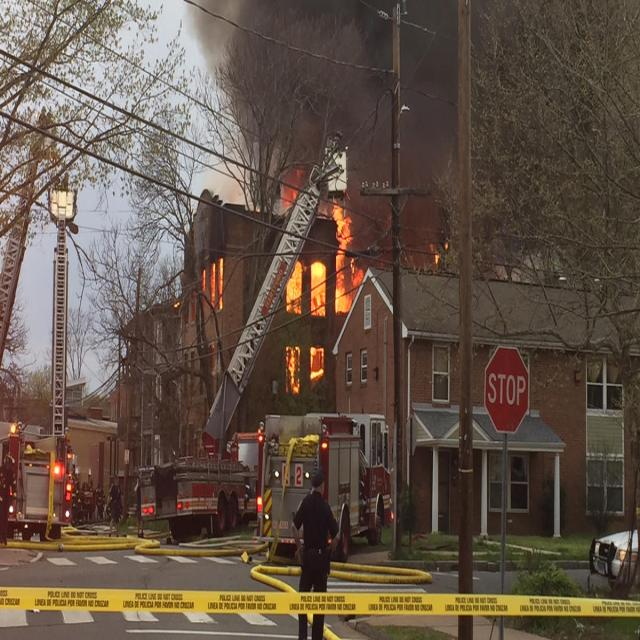fire: (287, 258, 364, 318), (285, 343, 324, 387), (333, 205, 352, 249)
